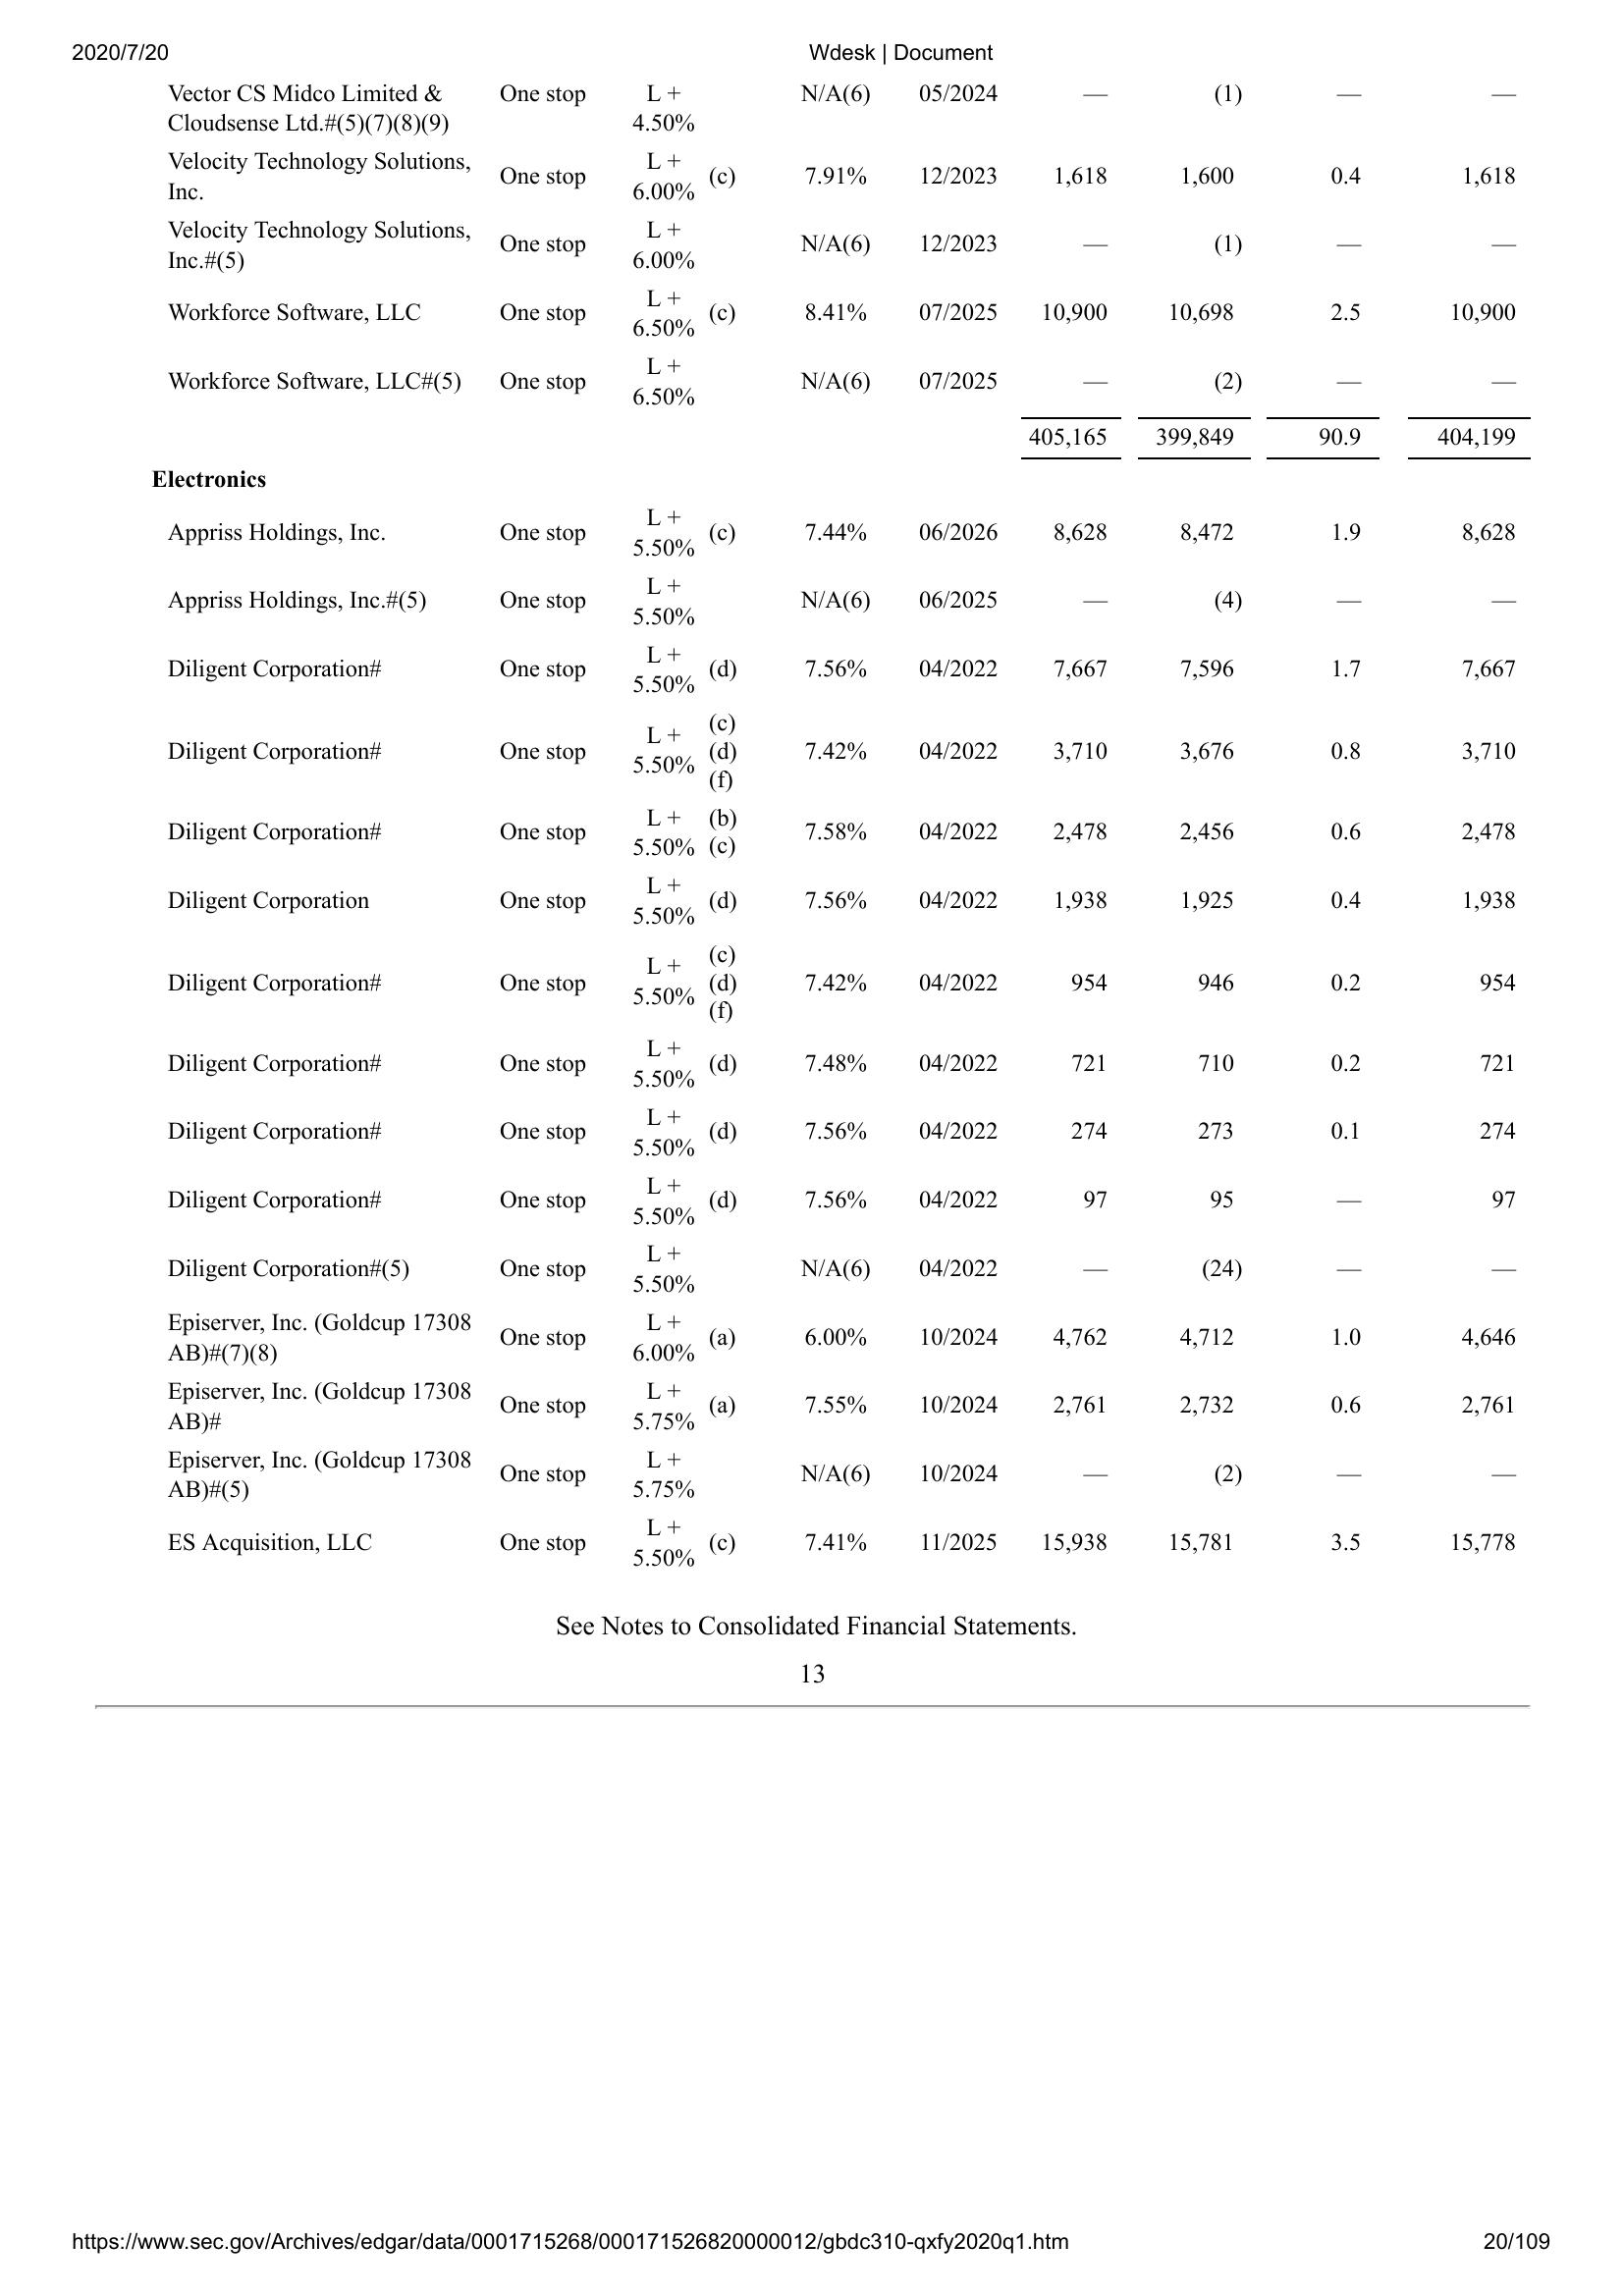table: (156, 72, 1526, 1561)
